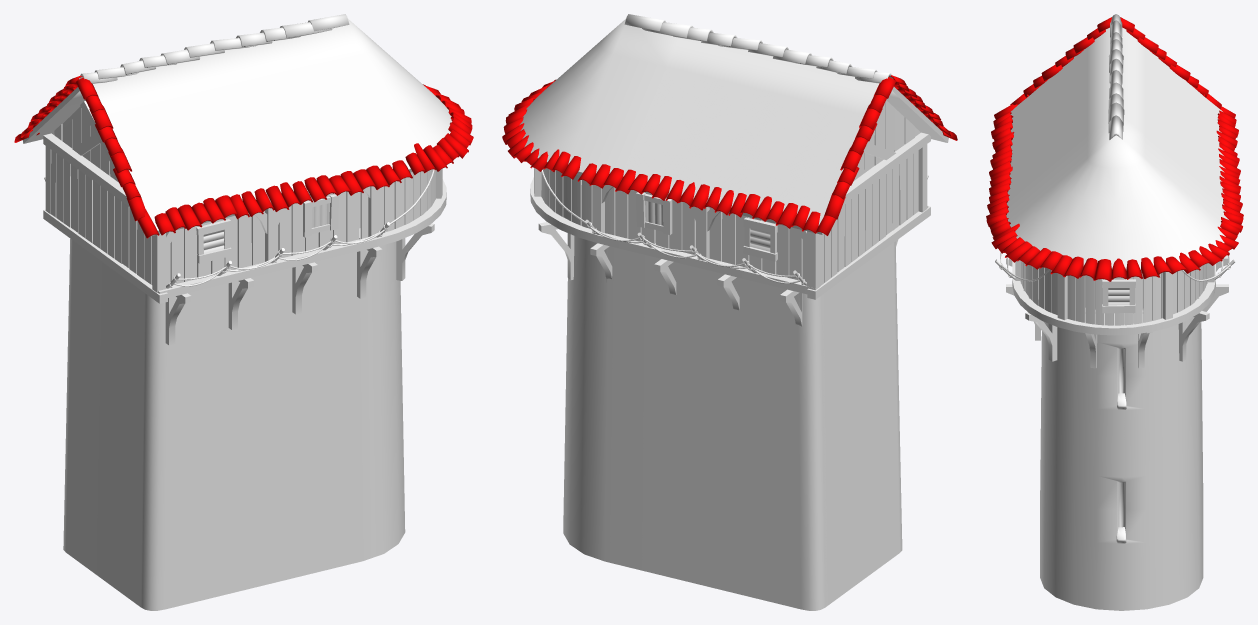
Rendered from SM_House_Tower.FBX.
3 renders of one model, left to right at view 1: azimuth 30°, elevation 25°; view 2: azimuth 150°, elevation 25°; view 3: azimuth 270°, elevation 25°, orthographic. The views are drawn at different scales.
Parts seen in each view (by area): view 1: SM_House_Tower_LOD0; view 2: SM_House_Tower_LOD0; view 3: SM_House_Tower_LOD0.
Part boxes in pixels (x1,y1,x2,y2): SM_House_Tower_LOD0: (14,14,473,610); SM_House_Tower_LOD0: (502,14,957,610); SM_House_Tower_LOD0: (986,14,1243,610).
Size of the model in its own units: 1432 by 950 by 1874.
